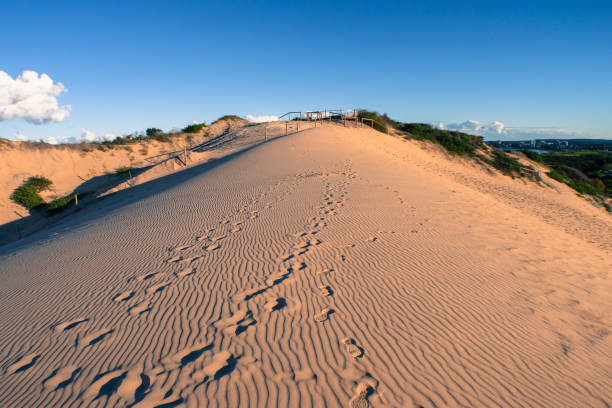human_footprint: (81, 342, 236, 407), (116, 344, 239, 407), (339, 365, 377, 407), (82, 369, 126, 403), (192, 350, 236, 382), (161, 342, 212, 368), (116, 367, 151, 402), (213, 308, 256, 334), (266, 260, 305, 286), (43, 365, 80, 390), (77, 328, 113, 347), (271, 368, 316, 383), (6, 353, 39, 373), (232, 286, 270, 303), (349, 382, 373, 407), (138, 388, 179, 402), (53, 318, 88, 332), (341, 338, 363, 357), (266, 270, 290, 286), (128, 300, 150, 315), (145, 282, 169, 295), (293, 238, 320, 249), (264, 297, 286, 310), (314, 308, 333, 322), (112, 290, 135, 301), (196, 228, 214, 241), (175, 267, 195, 277), (289, 260, 306, 271), (179, 256, 201, 264), (276, 253, 294, 262), (316, 268, 334, 277), (319, 285, 333, 296), (291, 248, 308, 256), (210, 234, 226, 242), (166, 255, 182, 263), (172, 245, 192, 251), (205, 243, 219, 251), (230, 225, 242, 233), (293, 231, 307, 237), (196, 234, 208, 241), (336, 254, 346, 262), (231, 221, 243, 227), (219, 218, 230, 224), (366, 236, 377, 241), (168, 261, 174, 262)
